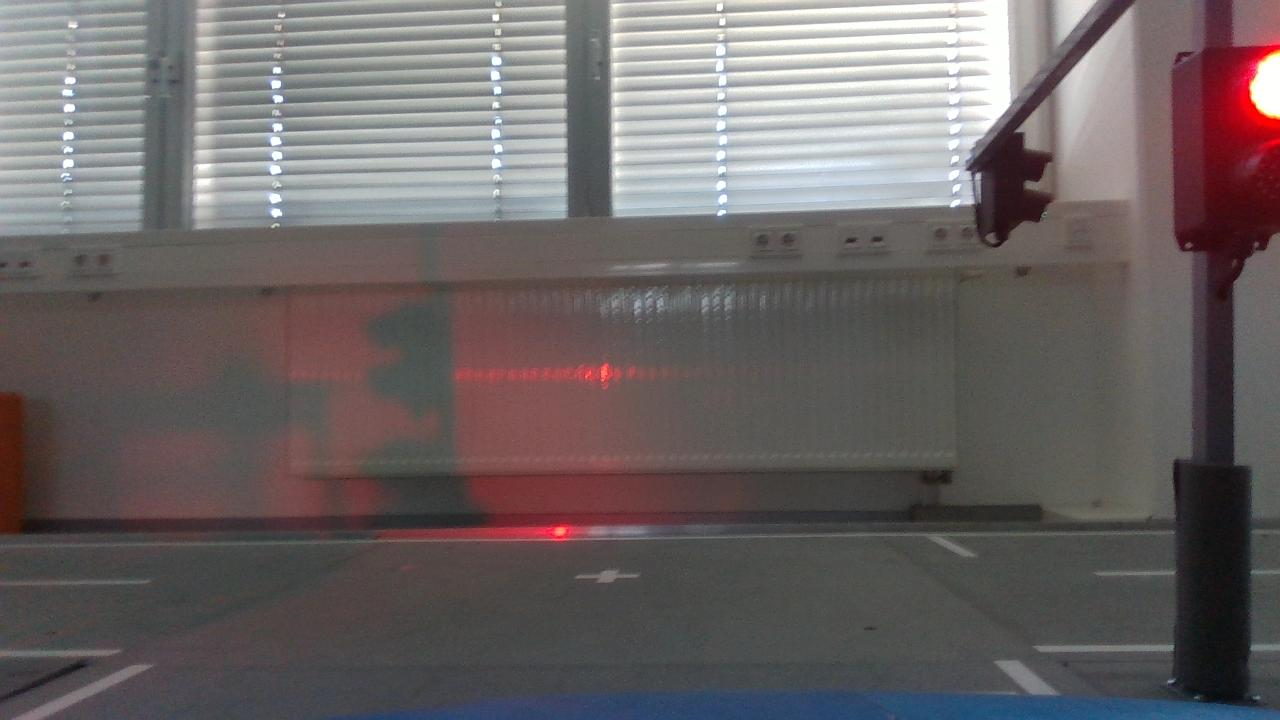traffic_light_red: (1156, 28, 1280, 285)
